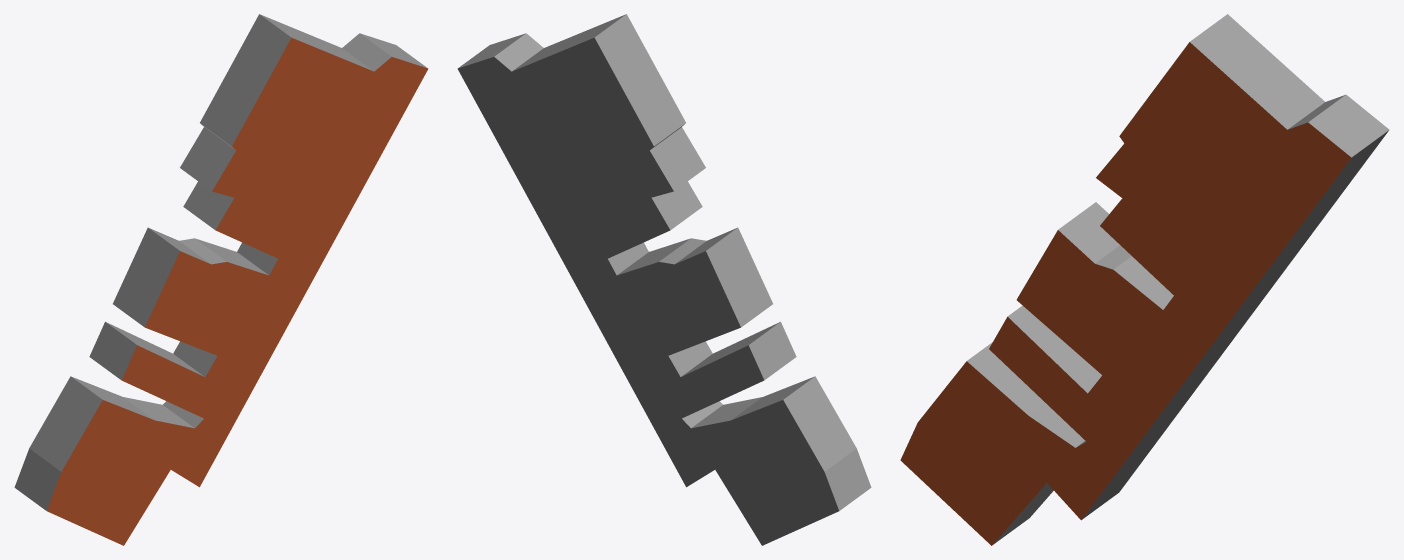
The model's file is construction_4181_assumed_A_Casa_h6m.obj.
3 renders of one model, left to right at view 1: azimuth 30°, elevation 25°; view 2: azimuth 150°, elevation 25°; view 3: azimuth 330°, elevation 25°, orthographic. The views are drawn at different scales.
Parts seen in each view (by area): view 1: construction_4181_assumed_A_Casa; view 2: construction_4181_assumed_A_Casa; view 3: construction_4181_assumed_A_Casa.
Boxes of the visible parts, x1=… form: construction_4181_assumed_A_Casa: x1=14, y1=14, x2=428, y2=545; construction_4181_assumed_A_Casa: x1=457, y1=14, x2=871, y2=545; construction_4181_assumed_A_Casa: x1=900, y1=14, x2=1389, y2=545.
Size of the model in its own units: 41.05 by 48.03 by 6.
